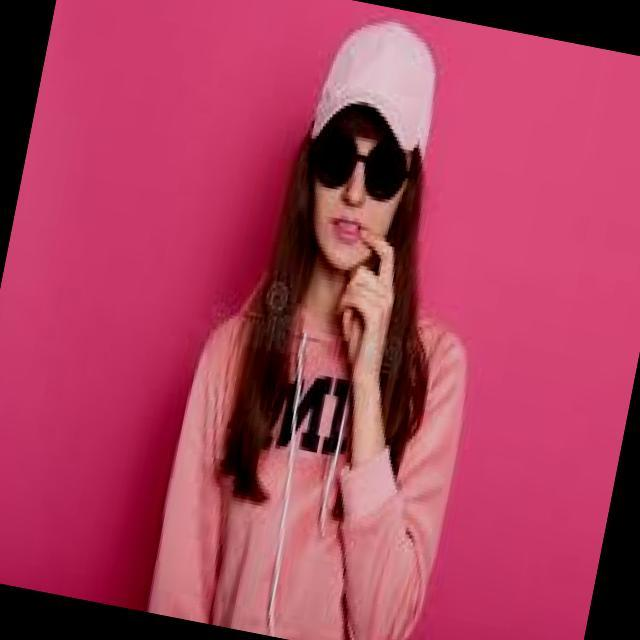cap: (275, 0, 463, 190)
